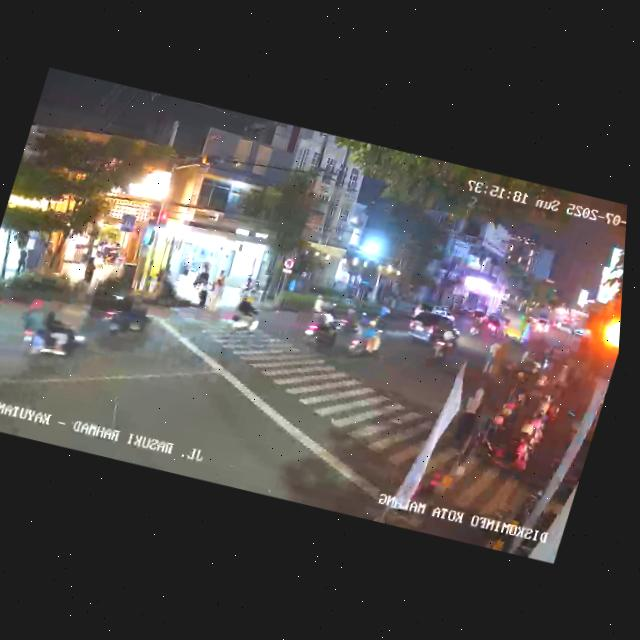car: (401, 304, 459, 349)
motorcycle: (9, 294, 99, 374), (93, 290, 159, 352), (299, 305, 349, 357), (341, 315, 388, 367), (224, 290, 266, 337), (427, 322, 462, 364), (467, 313, 488, 338)
person: (445, 380, 492, 460), (479, 339, 502, 378), (207, 271, 228, 309), (195, 276, 214, 309), (80, 254, 99, 284), (14, 246, 30, 277), (196, 265, 212, 290), (241, 271, 256, 295), (0, 241, 3, 272)
